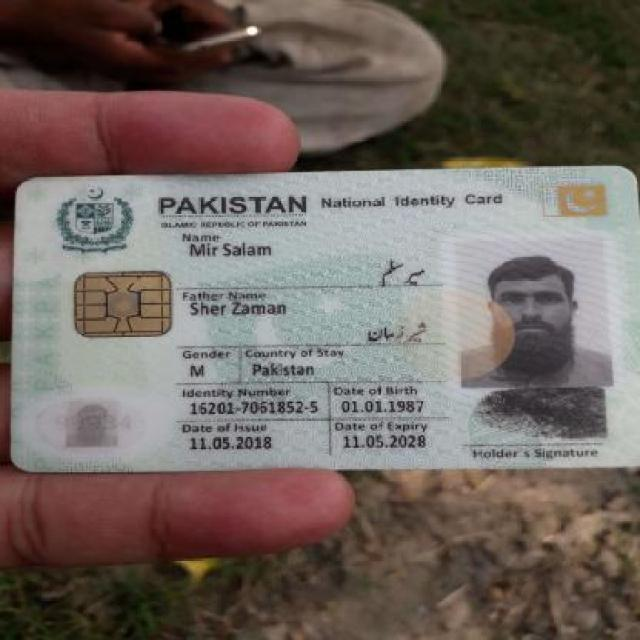Front: (9, 169, 636, 474)
